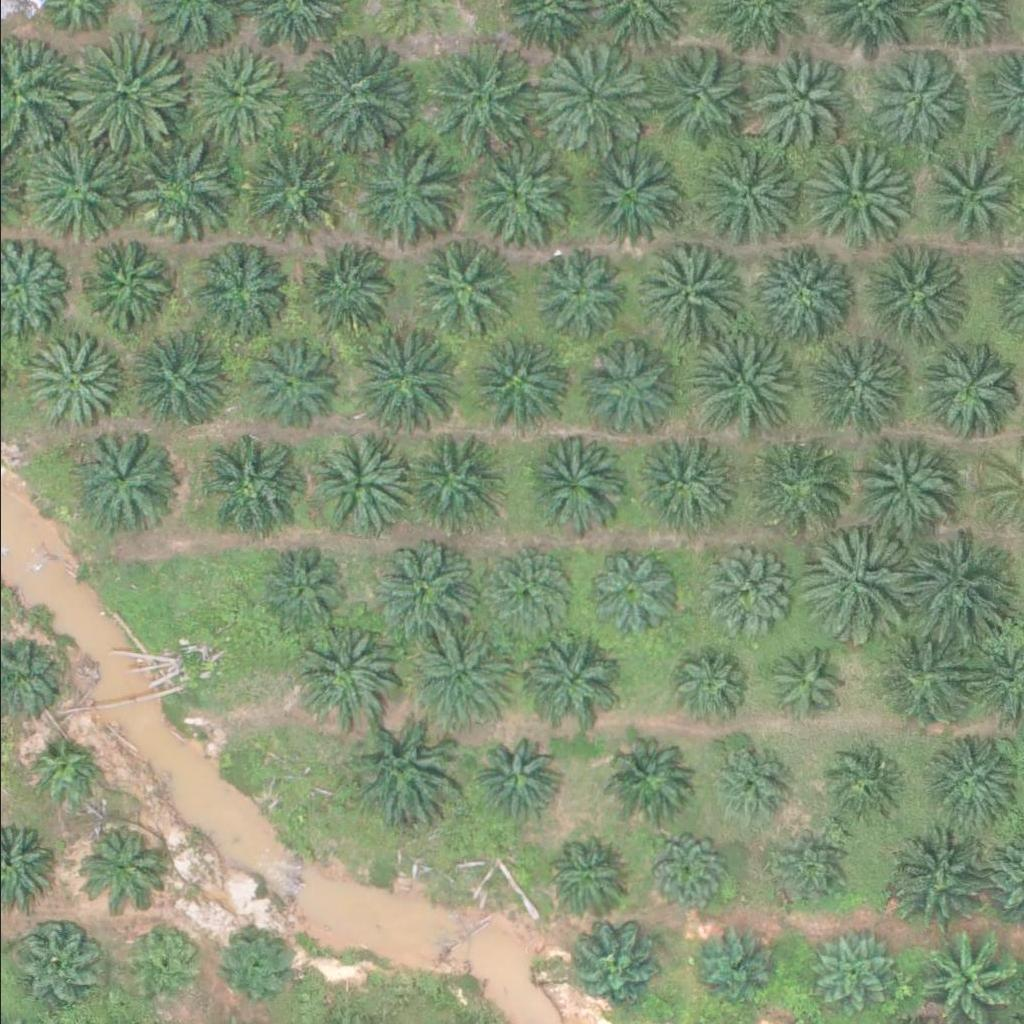Kelapa_Sawit: (419, 38, 533, 151), (796, 138, 909, 251), (689, 330, 802, 443), (344, 711, 457, 824), (127, 131, 240, 244), (294, 38, 407, 151), (798, 336, 912, 448), (799, 529, 913, 641), (891, 529, 1005, 641), (25, 134, 139, 246), (73, 36, 187, 148), (535, 39, 648, 151), (692, 140, 805, 252), (850, 439, 963, 551), (407, 614, 520, 726), (349, 326, 462, 438), (866, 51, 967, 151), (750, 48, 851, 148), (585, 146, 686, 246), (919, 147, 1020, 247), (862, 241, 963, 341), (754, 247, 855, 347), (629, 246, 730, 346), (577, 339, 678, 439), (918, 346, 1019, 446), (742, 432, 843, 532), (627, 436, 728, 536), (519, 437, 620, 537), (872, 632, 973, 732), (921, 730, 1022, 830), (67, 426, 168, 526), (18, 333, 119, 433), (73, 231, 174, 331), (295, 620, 396, 720), (378, 545, 479, 645), (309, 429, 410, 529), (397, 429, 498, 529), (465, 333, 566, 433), (185, 47, 286, 147), (644, 41, 744, 141), (581, 545, 681, 645), (517, 631, 617, 731), (895, 832, 995, 932), (117, 331, 217, 431), (200, 435, 300, 535), (241, 331, 341, 431), (196, 243, 296, 343), (416, 235, 516, 335), (300, 240, 400, 340), (467, 146, 567, 246), (350, 146, 450, 246), (237, 138, 337, 238), (661, 636, 750, 724), (485, 550, 574, 638), (808, 742, 896, 830), (802, 929, 890, 1017), (563, 926, 651, 1014), (114, 920, 202, 1008), (536, 831, 624, 918), (643, 826, 731, 913), (764, 826, 852, 913), (755, 633, 843, 720), (704, 736, 792, 823), (604, 732, 692, 819), (533, 249, 621, 336), (692, 552, 780, 639), (696, 924, 784, 1011), (13, 922, 101, 1009), (72, 824, 160, 911), (213, 922, 301, 1009), (467, 737, 555, 824), (260, 546, 348, 633), (22, 736, 98, 811)
